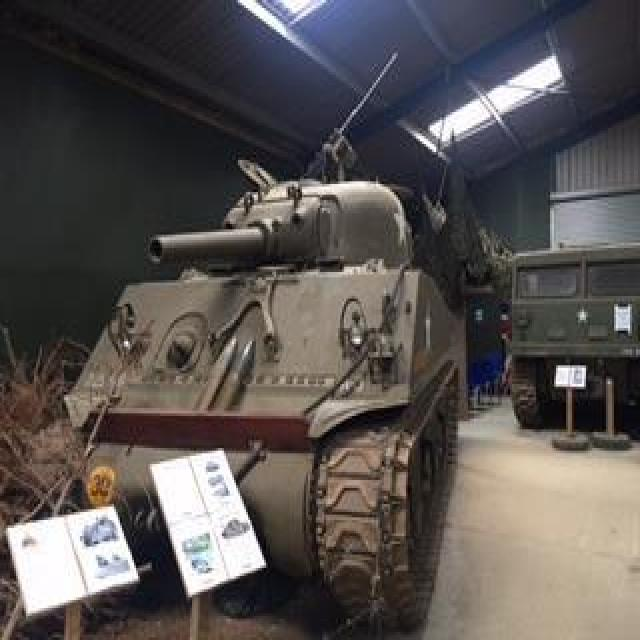Tanks: (77, 162, 443, 458)
